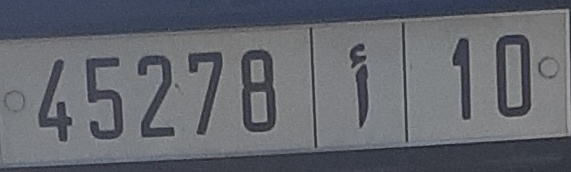0: (494, 30, 535, 120)
1: (448, 35, 475, 121)
2: (135, 51, 178, 138)
4: (34, 57, 75, 144)
5: (82, 54, 126, 141)
7: (185, 48, 226, 138)
8: (238, 48, 281, 134)
a: (345, 42, 375, 129)
